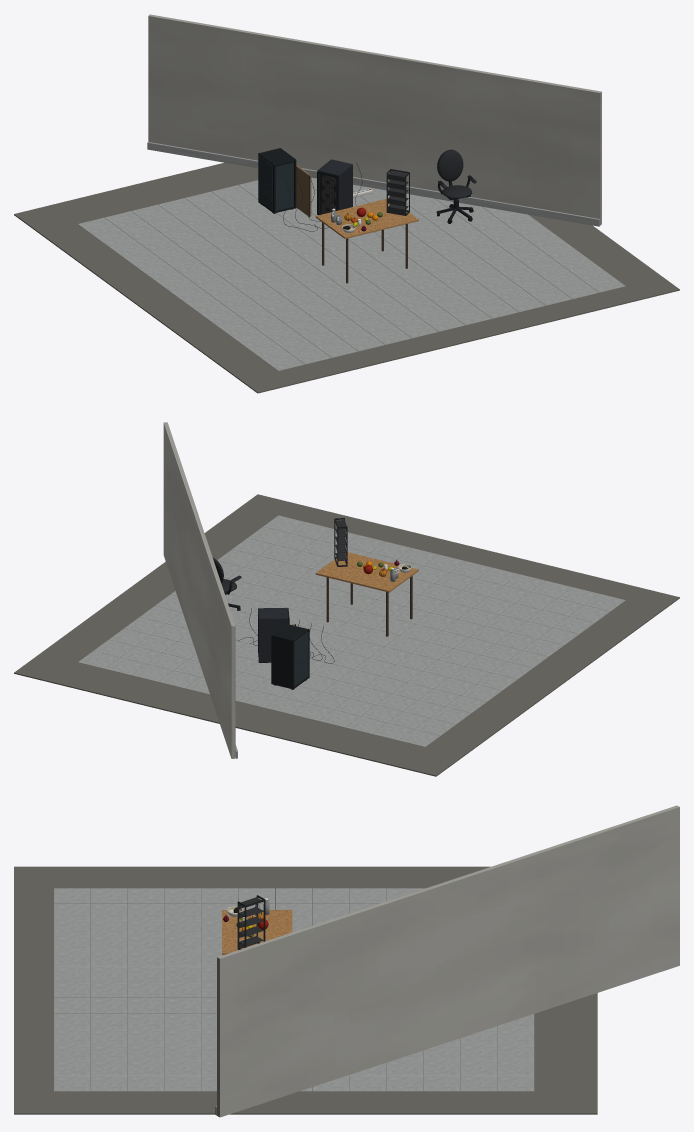
The model's file is codex.glb.
The picture shows the model from 3 angles, top to bottom: view 1: azimuth 30°, elevation 25°; view 2: azimuth 150°, elevation 25°; view 3: azimuth 270°, elevation 25°; orthographic projection. The views are drawn at different scales.
Visible parts, largest first — view 1: Back wall, Subfloor, Stone baseboard, Solid oak laminate tabletop, pc2 front dark reflective glass, pc2 left glass side panel, Desk thick upright side, chair tall cushioned backrest; view 2: Subfloor, Back wall, Solid oak laminate tabletop, pc2 rear back, pc1 satin side panel, pc2 left glass side panel; view 3: Back wall, Subfloor, Solid oak laminate tabletop, Ceramic floor tile.129, Ceramic floor tile.164, Ceramic floor tile.165, Ceramic floor tile.166, Ceramic floor tile.167, Ceramic floor tile.168, Ceramic floor tile.052, Ceramic floor tile.053, Ceramic floor tile.054 (+62 smaller).
Boxes of the visible parts, left/top/right/bottom form: Back wall: left=148, top=14, right=601, bottom=225; Subfloor: left=14, top=162, right=679, bottom=393; Stone baseboard: left=147, top=142, right=599, bottom=226; Solid oak laminate tabletop: left=315, top=199, right=418, bottom=238; pc2 front dark reflective glass: left=275, top=162, right=293, bottom=210; pc2 left glass side panel: left=258, top=156, right=272, bottom=210; Desk thick upright side: left=296, top=165, right=311, bottom=216; chair tall cushioned backrest: left=438, top=150, right=463, bottom=181; Subfloor: left=14, top=494, right=679, bottom=776; Back wall: left=163, top=422, right=235, bottom=758; Solid oak laminate tabletop: left=315, top=552, right=418, bottom=592; pc2 rear back: left=271, top=636, right=293, bottom=689; pc1 satin side panel: left=258, top=618, right=287, bottom=662; pc2 left glass side panel: left=294, top=631, right=308, bottom=686; Back wall: left=217, top=805, right=679, bottom=1117; Subfloor: left=14, top=866, right=597, bottom=1114; Solid oak laminate tabletop: left=222, top=910, right=292, bottom=954; Ceramic floor tile.129: left=497, top=1028, right=534, bottom=1044; Ceramic floor tile.164: left=349, top=1075, right=386, bottom=1091; Ceramic floor tile.165: left=386, top=1075, right=423, bottom=1091; Ceramic floor tile.166: left=423, top=1075, right=460, bottom=1091; Ceramic floor tile.167: left=460, top=1075, right=497, bottom=1091; Ceramic floor tile.168: left=497, top=1075, right=534, bottom=1091; Ceramic floor tile.052: left=54, top=950, right=90, bottom=966; Ceramic floor tile.053: left=91, top=950, right=127, bottom=966; Ceramic floor tile.054: left=128, top=950, right=164, bottom=966.
Size of the model in its own units: 12.23 by 3.92 by 13.69.
Materials: 241 (217 with a texture image).
